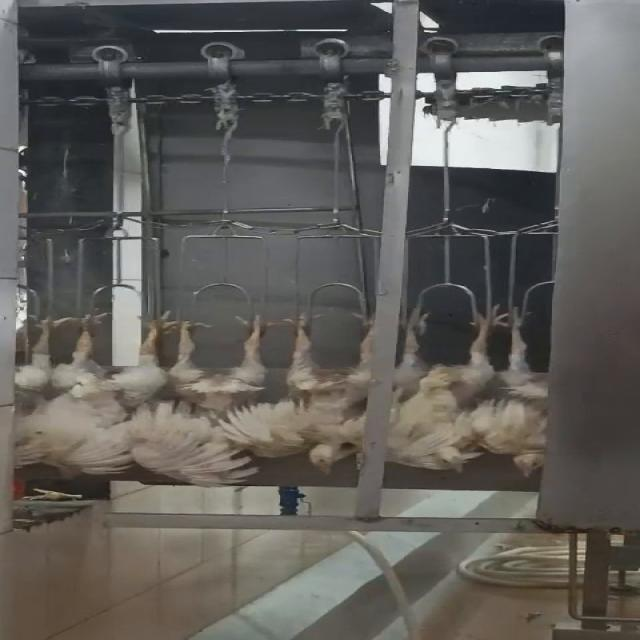chicken: (151, 312, 280, 486), (51, 304, 170, 476), (382, 302, 502, 472), (266, 313, 386, 476), (491, 302, 565, 479), (0, 305, 77, 474)
